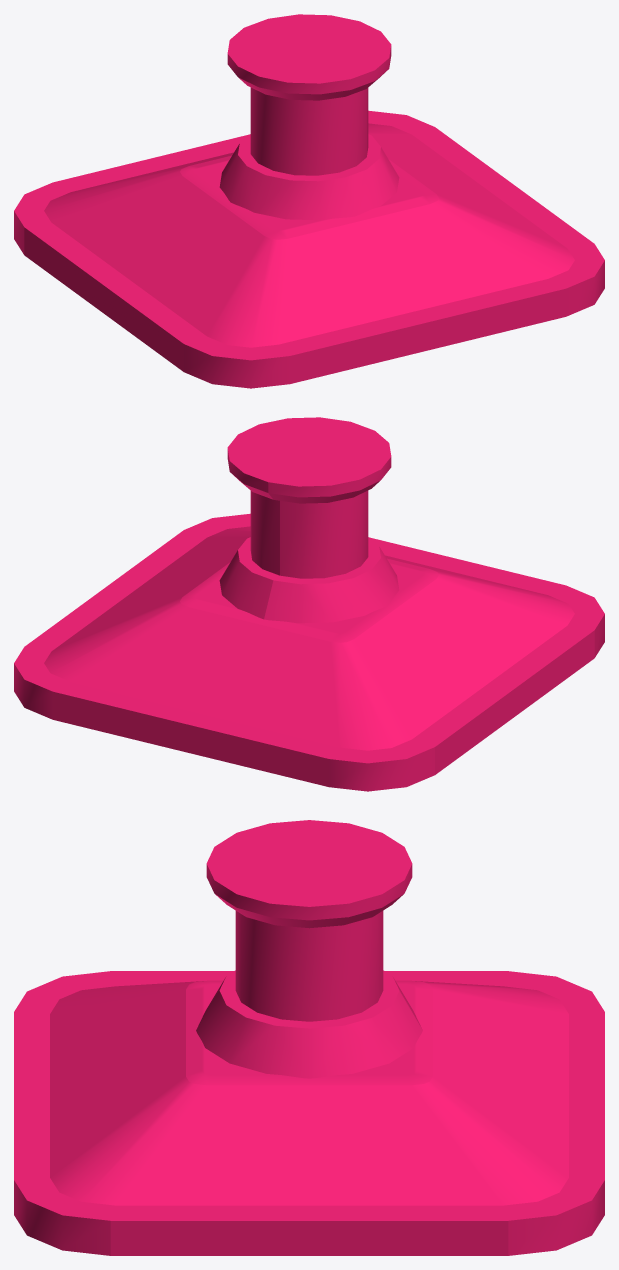
Rendered from obj_topdepartment_chair_foot.fbx.
3 renders of one model, top to bottom at view 1: azimuth 30°, elevation 25°; view 2: azimuth 150°, elevation 25°; view 3: azimuth 270°, elevation 25°, orthographic. The views are drawn at different scales.
Parts seen in each view (by area): view 1: stand_part1_lp.001; view 2: stand_part1_lp.001; view 3: stand_part1_lp.001.
Boxes of the visible parts, x1,y1,x2,y2 form: stand_part1_lp.001: [14, 14, 604, 388]; stand_part1_lp.001: [14, 417, 604, 791]; stand_part1_lp.001: [14, 820, 604, 1255].
Bounding box in the file's own units: 4 × 2 × 4.
